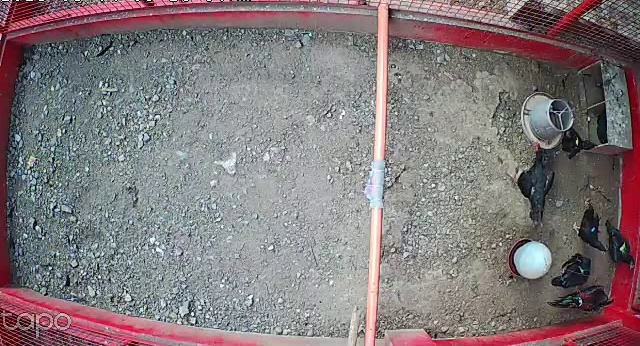Chicken: (510, 137, 561, 227), (570, 197, 609, 253), (601, 218, 637, 273), (549, 249, 597, 288), (561, 124, 602, 160)
Rooster: (545, 277, 618, 316)
Saddle_Color_Blue: (590, 226, 596, 233)
Saddle_Color_YellowGreen: (619, 241, 626, 255)
